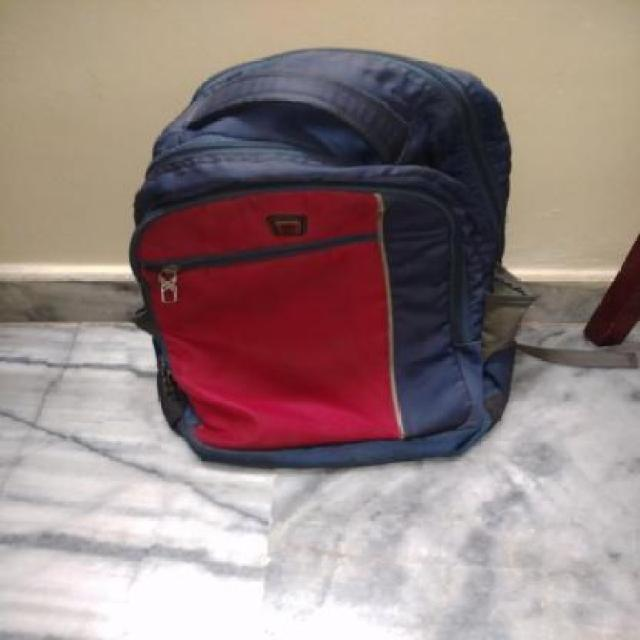backpack: (119, 40, 546, 474)
